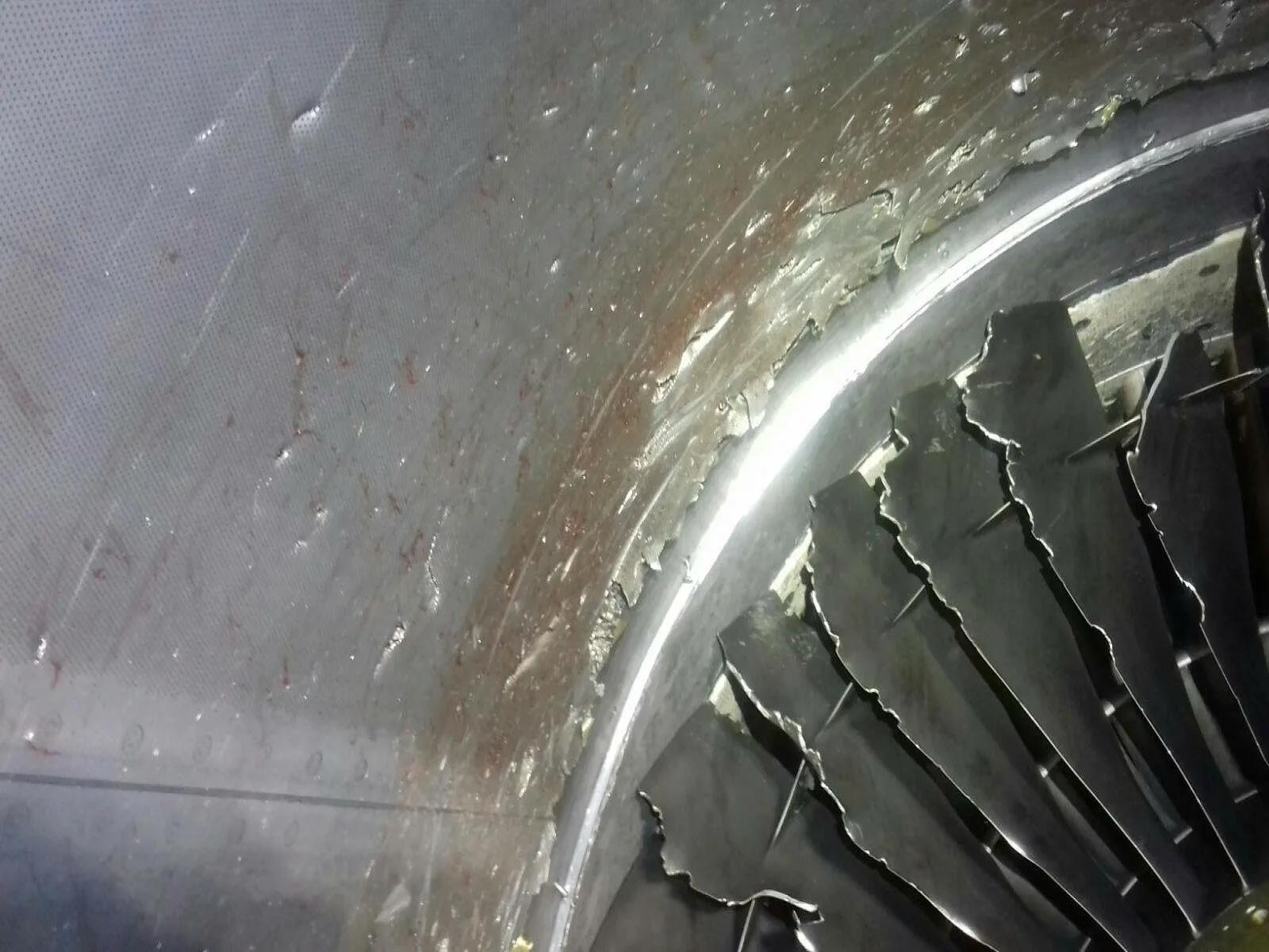Engine_damage: (673, 183, 911, 478), (817, 703, 1069, 951), (1127, 332, 1268, 764), (638, 702, 792, 905), (807, 475, 926, 708), (612, 401, 746, 601), (718, 591, 848, 773), (964, 301, 1106, 459), (891, 126, 1036, 270), (552, 559, 645, 772), (503, 818, 555, 951), (739, 306, 792, 392), (720, 889, 824, 932), (671, 310, 731, 378), (504, 629, 555, 696), (635, 414, 695, 468), (1194, 0, 1246, 54), (589, 602, 622, 673), (374, 622, 408, 677), (289, 97, 328, 139), (375, 880, 411, 923), (423, 543, 441, 612), (1093, 95, 1125, 125), (517, 754, 535, 797), (1010, 69, 1039, 94), (535, 827, 554, 863), (799, 937, 818, 951)
